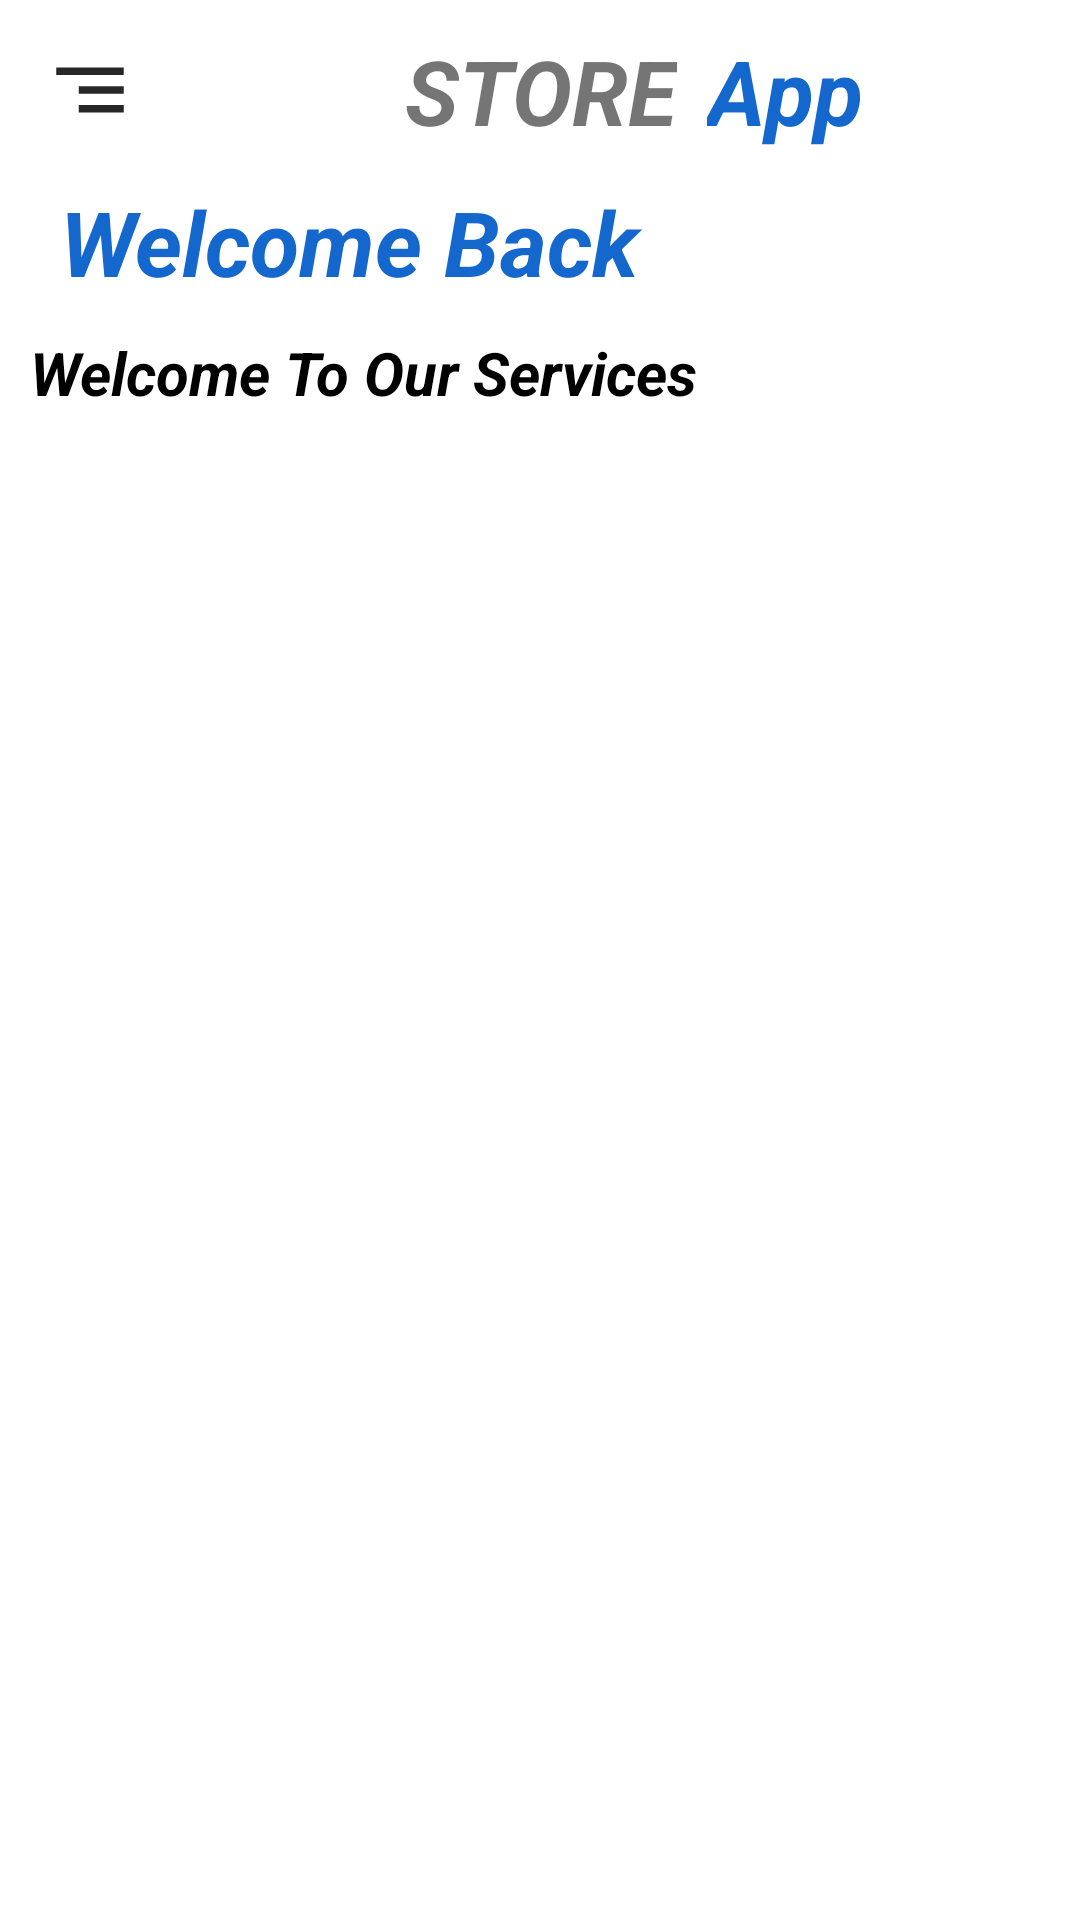

Named icons in this screenshot (1080px×1920px) and their centers, point (x, y):
menu: point (90, 90)
